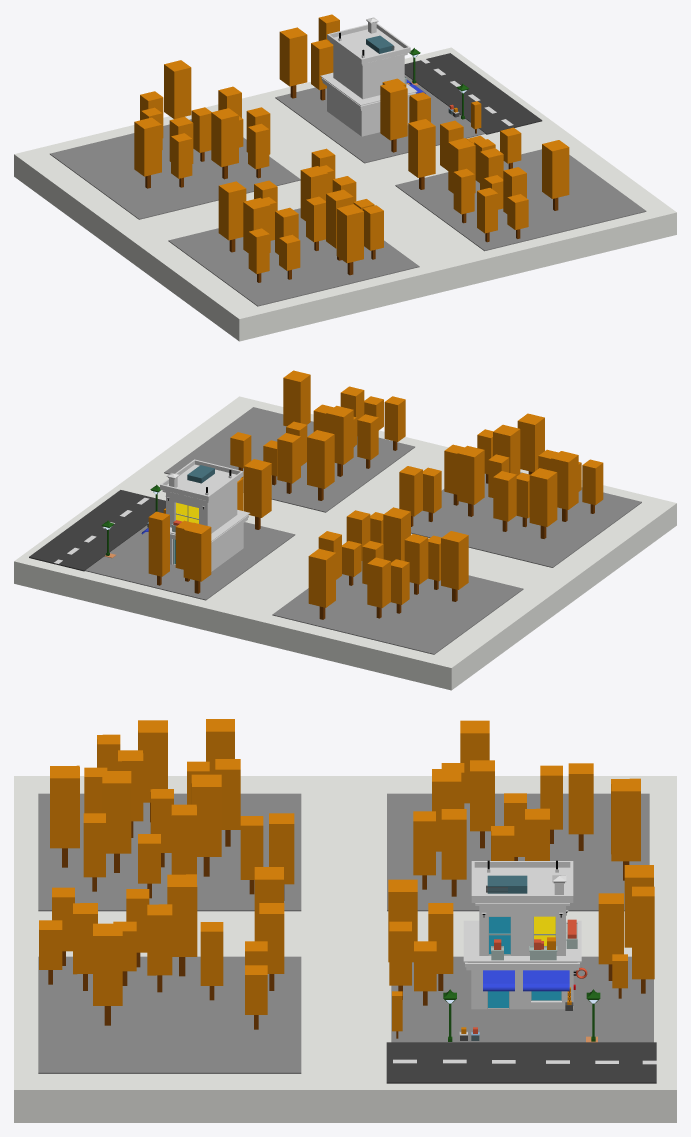
File: casaDonuts.glb
3 views of the same model, one above another, from view 1: azimuth 30°, elevation 25°; view 2: azimuth 150°, elevation 25°; view 3: azimuth 270°, elevation 25° (orthographic). The views are drawn at different scales.
Visible parts, largest first — view 1: Plano.002, Cube.004, Cube.002, Cube.003, Cubo, Cubo.031, Cube, Cubo.044, Cubo.087, Cubo.075, Cubo.042, Cubo.057 (+28 smaller); view 2: Plano.002, Cube.004, Cube.003, Cube.002, Cube, Cubo, Cubo.031, Cubo.044, Cubo.068, Cubo.079, Cubo.065, Cubo.051 (+30 smaller); view 3: Plano.002, Cube.002, Cube, Cube.003, Cubo, Cube.004, Cubo.031, Cubo.088, Cubo.087, Cubo.079, Cubo.084, Cubo.061 (+44 smaller).
Boxes of the visible parts, box(x1,y1,x2,y2) form: Plano.002: box(14, 47, 676, 341); Cube.004: box(50, 119, 300, 219); Cube.002: box(395, 149, 646, 251); Cube.003: box(168, 208, 419, 306); Cubo: box(320, 23, 417, 136); Cubo.031: box(404, 53, 542, 134); Cube: box(275, 74, 485, 163); Cubo.044: box(279, 27, 307, 98); Cubo.087: box(336, 204, 363, 275); Cubo.075: box(134, 117, 161, 188); Cubo.042: box(380, 81, 407, 152); Cubo.057: box(211, 108, 238, 179); Plano.002: box(14, 396, 676, 690); Cube.004: box(272, 561, 523, 654); Cube.003: box(411, 472, 641, 567); Cube.002: box(164, 407, 414, 512); Cube: box(85, 522, 295, 600); Cubo: box(160, 459, 250, 571); Cubo.031: box(29, 490, 165, 571); Cubo.044: box(183, 522, 211, 593); Cubo.068: box(529, 468, 557, 538); Cubo.079: box(308, 548, 335, 619); Cubo.065: box(457, 445, 484, 516); Cubo.051: box(307, 430, 334, 500); Plano.002: box(14, 776, 676, 1122); Cube.002: box(38, 956, 301, 1073); Cube: box(391, 956, 653, 1042); Cube.003: box(38, 793, 301, 911); Cubo: box(463, 861, 581, 1009); Cube.004: box(387, 793, 649, 911); Cubo.031: box(386, 1042, 656, 1083); Cubo.088: box(93, 923, 122, 1025); Cubo.087: box(50, 765, 79, 867); Cubo.079: box(611, 778, 640, 880); Cubo.084: box(102, 771, 131, 872); Cubo.061: box(167, 874, 197, 976).
Bounding box in the file's own units: 159 × 38.06 × 142.
